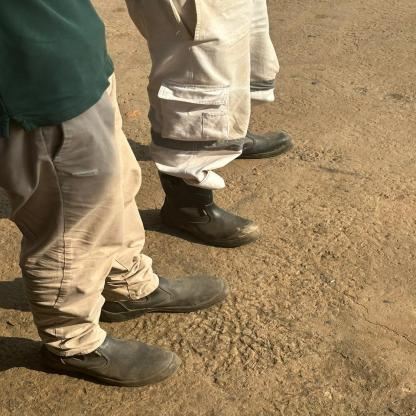bota: (30, 322, 194, 396), (150, 165, 281, 255), (95, 270, 240, 318), (226, 124, 308, 160)
